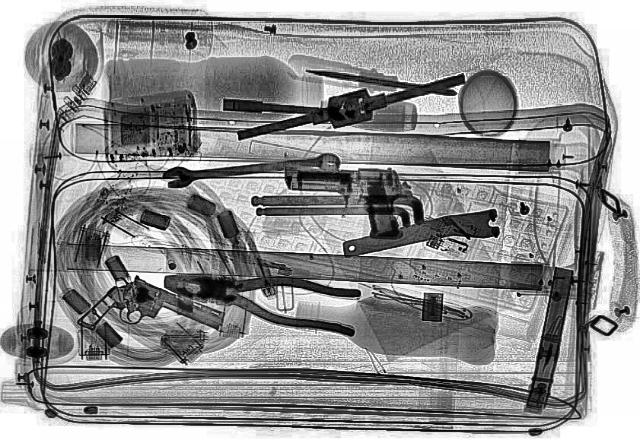Gun: (74, 270, 238, 364), (282, 165, 402, 239)
Pliers: (152, 256, 374, 336)
Wrench: (160, 150, 342, 188)
